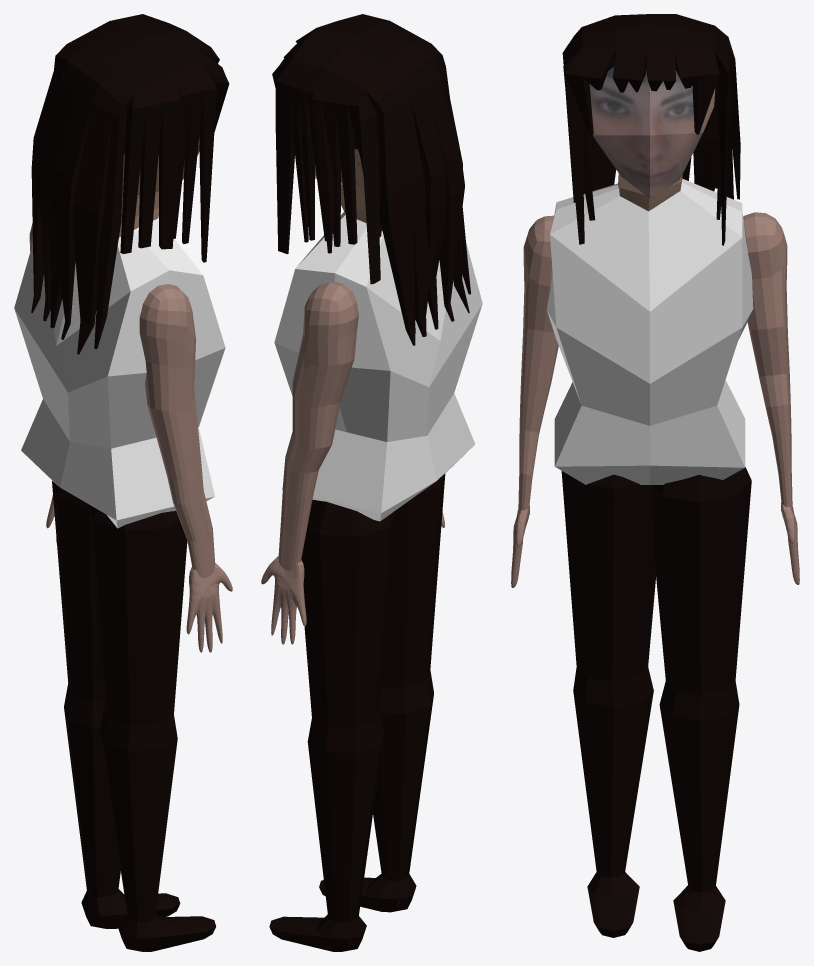
File: Fotini.fbx
The picture shows the model from 3 angles, left to right: view 1: azimuth 30°, elevation 25°; view 2: azimuth 150°, elevation 25°; view 3: azimuth 270°, elevation 25°; orthographic projection.
Parts seen in each view (by area): view 1: Cube.003, Cube, Roundcube.003, Roundcube.004, Cube.001; view 2: Cube.003, Cube, Roundcube.004, Roundcube.003, Cube.002; view 3: Cube, Roundcube.004, Roundcube.003, Cube.003, Cube.002, Cube.001.
Part boxes in pixels (<box>): Cube.003: <box>31,14,229,354</box>; Cube: <box>14,109,225,528</box>; Roundcube.003: <box>88,504,216,951</box>; Roundcube.004: <box>52,481,180,928</box>; Cube.001: <box>139,284,232,652</box>; Cube.003: <box>272,14,470,345</box>; Cube: <box>274,100,482,521</box>; Roundcube.004: <box>269,499,395,951</box>; Roundcube.003: <box>319,474,445,912</box>; Cube.002: <box>261,282,358,644</box>; Cube: <box>546,67,753,484</box>; Roundcube.004: <box>654,467,751,951</box>; Roundcube.003: <box>561,471,655,937</box>; Cube.003: <box>562,14,740,245</box>; Cube.002: <box>743,212,799,584</box>; Cube.001: <box>511,215,558,587</box>.
Bounding box in the file's own units: 167 × 916 × 265.
